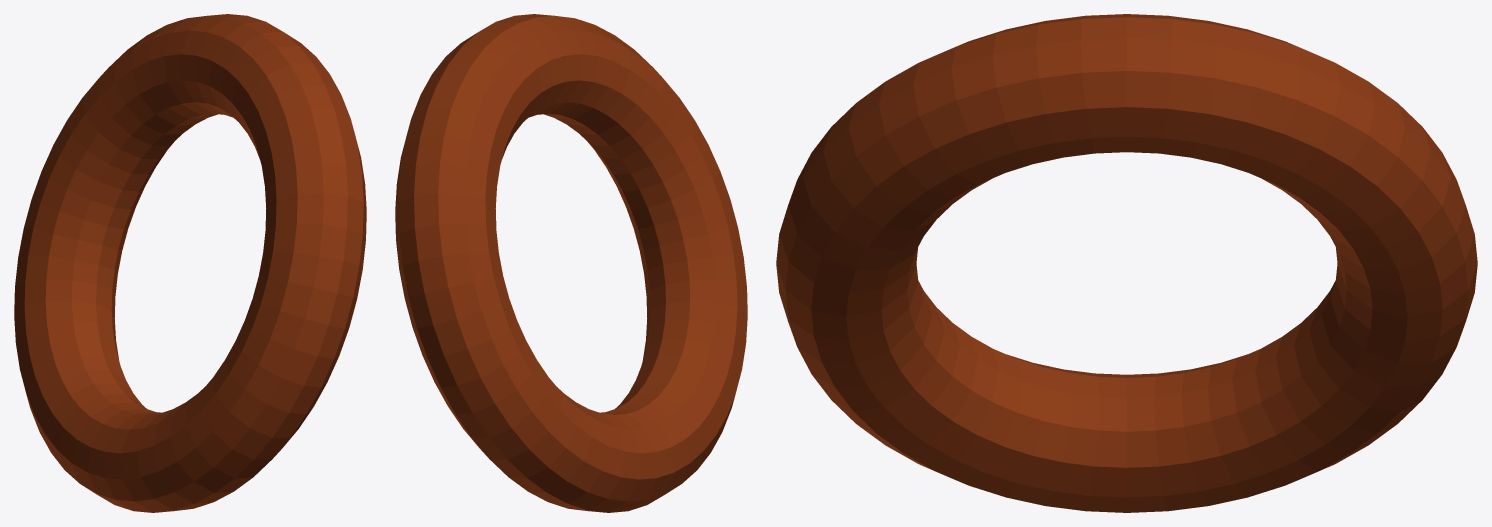
Rendered from right_arm.obj.
The picture shows the model from 3 angles, left to right: view 1: azimuth 30°, elevation 25°; view 2: azimuth 150°, elevation 25°; view 3: azimuth 270°, elevation 25°; orthographic projection. The views are drawn at different scales.
Parts seen in each view (by area): view 1: トーラス; view 2: トーラス; view 3: トーラス.
Boxes of the visible parts, left/top/right/bottom form: トーラス: left=14, top=14, right=366, bottom=512; トーラス: left=395, top=14, right=747, bottom=512; トーラス: left=776, top=14, right=1477, bottom=512.
Size of the model in its own units: 0.4702 by 0.8087 by 0.875.
1 material, 1 textured.
